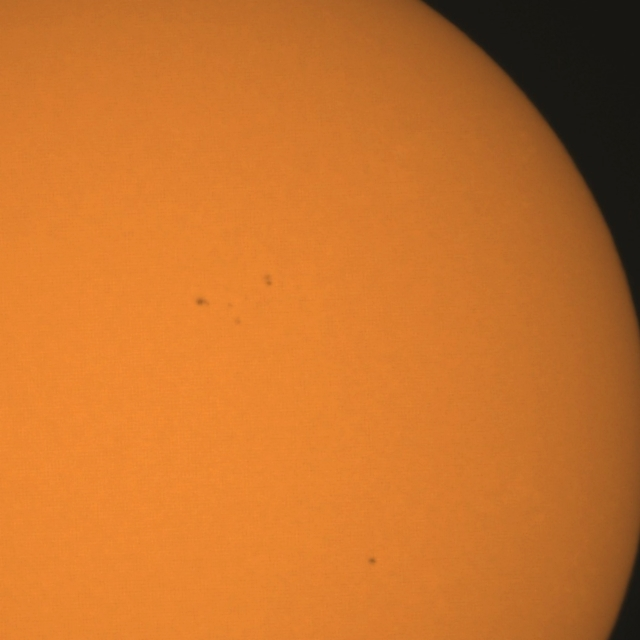sunspot: (225, 302, 244, 328), (194, 296, 211, 308), (263, 273, 274, 288), (367, 556, 378, 566)
